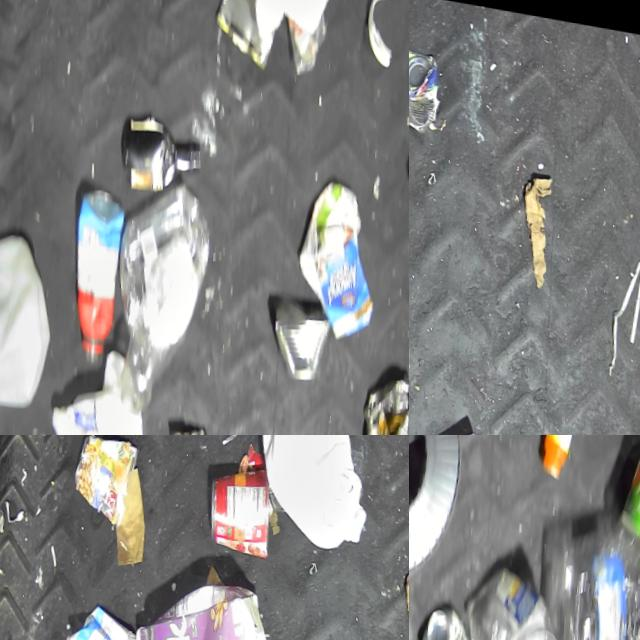can: (199, 454, 274, 556), (258, 283, 331, 379), (65, 435, 140, 526), (203, 0, 283, 66), (346, 353, 409, 435), (409, 36, 444, 131), (409, 593, 474, 640), (152, 414, 206, 435)
milk_jug: (247, 435, 378, 551), (33, 330, 147, 435), (0, 213, 58, 412)
non_white_jug: (94, 164, 219, 420), (120, 559, 271, 640)
plastic_bottle: (598, 435, 640, 566)
